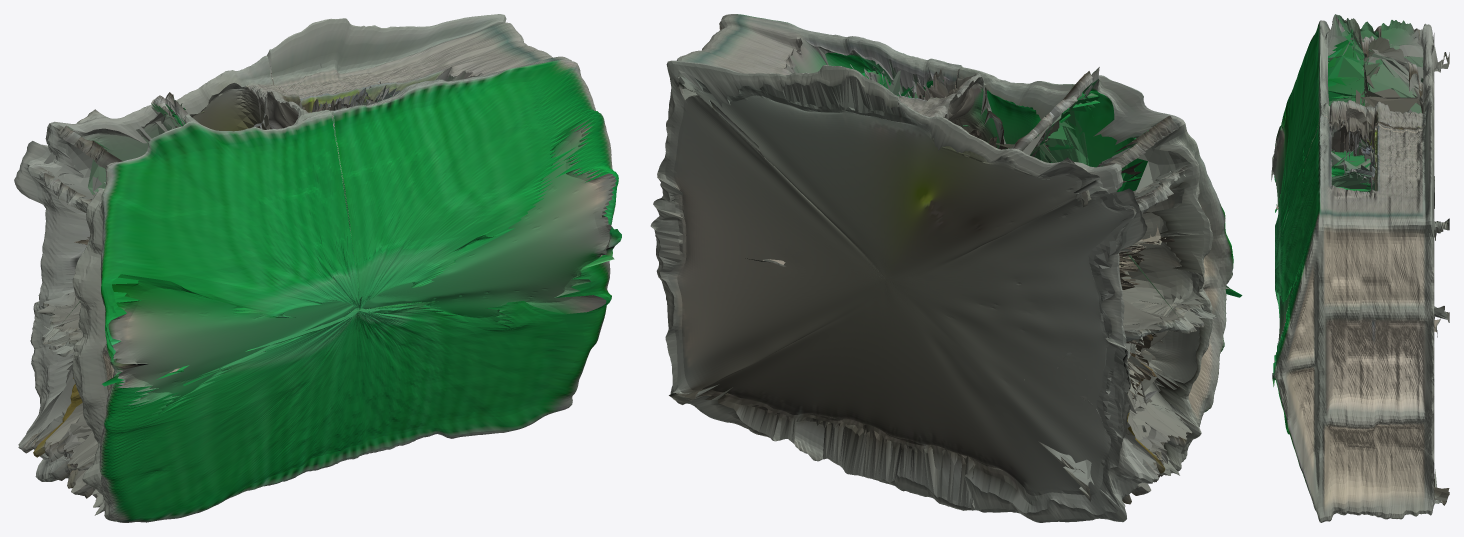
The model's file is mesh_inpaint.glb.
The picture shows the model from 3 angles, left to right: view 1: azimuth 30°, elevation 25°; view 2: azimuth 150°, elevation 25°; view 3: azimuth 270°, elevation 25°; orthographic projection. The views are drawn at different scales.
Parts seen in each view (by area): view 1: ipn, fill; view 2: fill, ipn; view 3: ipn, fill.
Part boxes in pixels (x1,y1,x2,y2): ipn: (14, 14, 621, 522); fill: (18, 62, 616, 514); fill: (655, 38, 1230, 515); ipn: (650, 14, 1242, 522); ipn: (1272, 16, 1449, 522); fill: (1271, 14, 1449, 504).
Bounding box in the file's own units: 1.75 × 1.35 × 0.5812.
2 materials, 1 textured.
